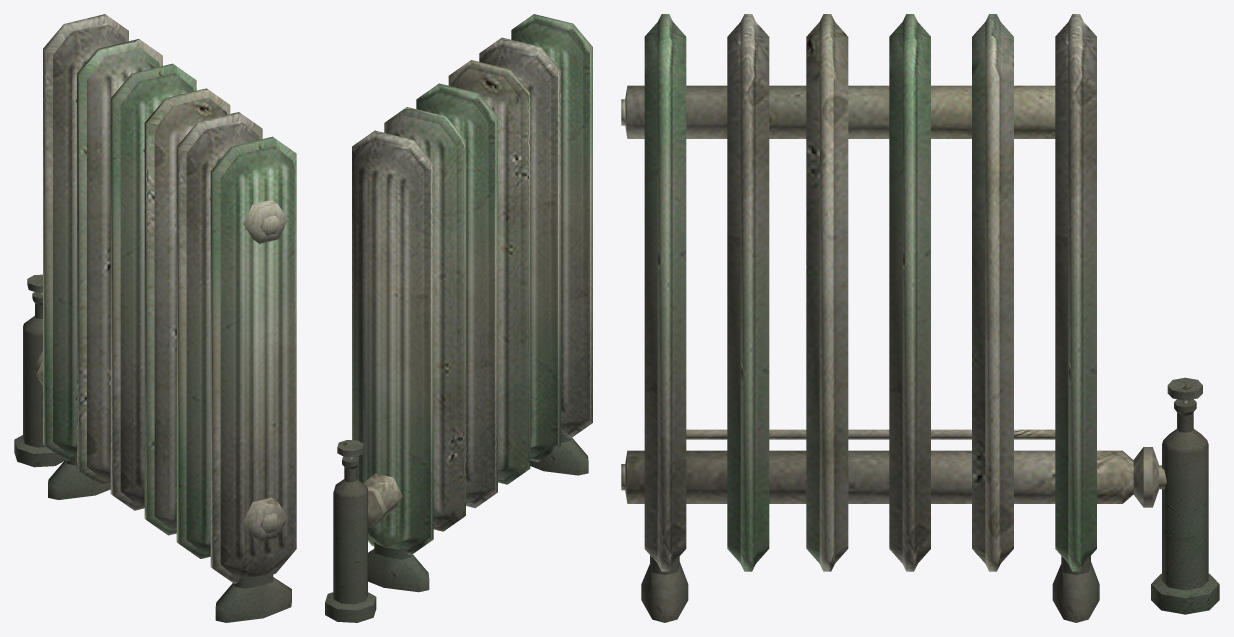
File: radiator_01.fbx
The picture shows the model from 3 angles, left to right: view 1: azimuth 30°, elevation 25°; view 2: azimuth 150°, elevation 25°; view 3: azimuth 270°, elevation 25°; orthographic projection. The views are drawn at different scales.
Parts seen in each view (by area): view 1: radiator_01; view 2: radiator_01; view 3: radiator_01.
Part boxes in pixels (x1,y1,x2,y2): radiator_01: (14,14,296,622); radiator_01: (325,14,592,622); radiator_01: (621,14,1219,622).
Size of the model in its own units: 22.4 by 121 by 114.
